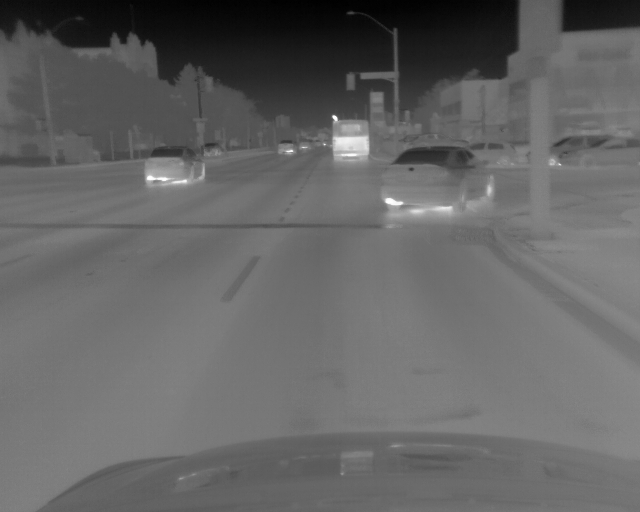car: (381, 145, 494, 214), (561, 134, 640, 170), (143, 144, 206, 189), (527, 136, 599, 170), (333, 118, 370, 160), (469, 141, 515, 166), (201, 142, 225, 157), (276, 137, 295, 155), (299, 138, 311, 152), (312, 136, 325, 148)
